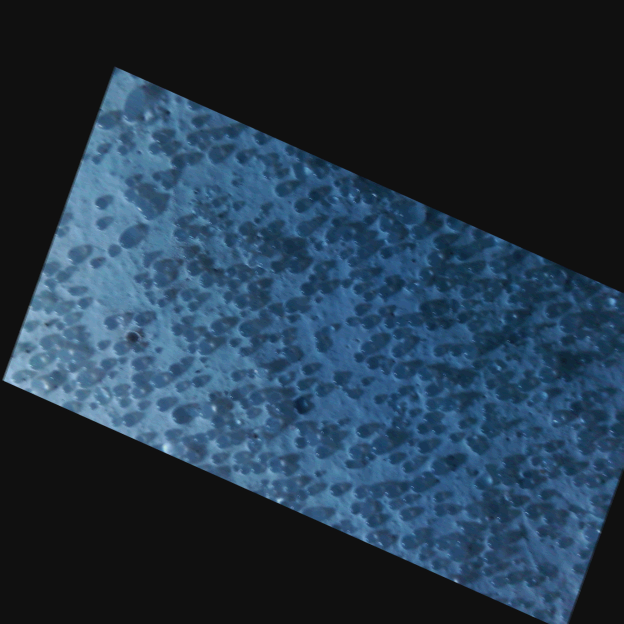GrassBeadSeg: (147, 195, 585, 553), (149, 172, 600, 506), (94, 145, 586, 433), (167, 185, 503, 588), (205, 150, 556, 535), (128, 190, 510, 522), (144, 213, 608, 471), (120, 233, 622, 460), (138, 206, 441, 570), (85, 298, 598, 507), (117, 233, 609, 450), (65, 249, 497, 490), (227, 187, 538, 519), (89, 156, 366, 525), (220, 291, 586, 558), (61, 206, 470, 443), (281, 347, 619, 619), (207, 199, 464, 554), (131, 313, 501, 550), (114, 145, 437, 410), (131, 279, 479, 517), (96, 244, 433, 480), (177, 247, 508, 485), (115, 334, 517, 527), (173, 219, 442, 503), (40, 234, 354, 469), (93, 218, 427, 429), (291, 253, 617, 466), (187, 229, 589, 399), (195, 289, 472, 515), (217, 201, 398, 543), (194, 179, 541, 354), (296, 229, 469, 573), (248, 321, 582, 492), (29, 299, 442, 433), (245, 205, 553, 378), (213, 384, 496, 559), (169, 262, 380, 488), (194, 333, 483, 498), (227, 252, 438, 476), (74, 201, 325, 388), (86, 236, 305, 449), (64, 286, 393, 426), (95, 266, 369, 434), (257, 229, 622, 351), (66, 256, 410, 380), (388, 345, 552, 603), (151, 274, 387, 453), (115, 264, 325, 462), (169, 287, 471, 424), (65, 228, 352, 372), (197, 234, 397, 439), (227, 390, 465, 561), (169, 156, 374, 354), (295, 200, 468, 428), (364, 290, 550, 500), (54, 180, 373, 302), (22, 235, 248, 406), (206, 216, 528, 336), (172, 258, 440, 402), (121, 190, 308, 391), (380, 370, 529, 608), (29, 380, 590, 443), (254, 241, 498, 379), (92, 197, 300, 354), (213, 415, 591, 501), (464, 321, 570, 612), (94, 340, 362, 454), (275, 403, 498, 535), (31, 355, 280, 473), (68, 203, 239, 371), (119, 388, 382, 497), (131, 318, 436, 411), (293, 412, 594, 501), (183, 243, 302, 463), (381, 276, 589, 401), (244, 267, 374, 461), (91, 259, 263, 404), (110, 342, 370, 437), (122, 421, 574, 475), (237, 233, 373, 409), (307, 345, 541, 446), (128, 358, 361, 458), (279, 377, 445, 516), (267, 261, 397, 401), (52, 270, 290, 346), (131, 179, 427, 240), (49, 109, 133, 311), (339, 240, 415, 463), (430, 459, 551, 599), (435, 387, 598, 488), (41, 262, 159, 400), (153, 398, 431, 454), (257, 204, 309, 486), (131, 156, 249, 278), (134, 382, 329, 455), (101, 259, 302, 329), (346, 479, 564, 542), (110, 217, 186, 397), (141, 191, 344, 257), (192, 435, 363, 509), (94, 363, 497, 394), (28, 357, 175, 439), (413, 367, 554, 450), (496, 470, 568, 621), (188, 368, 554, 397), (503, 277, 616, 367), (32, 346, 297, 384), (453, 378, 558, 469), (521, 370, 607, 476), (293, 223, 328, 459), (229, 322, 362, 379), (186, 261, 223, 464), (411, 463, 487, 560), (105, 134, 129, 421), (148, 228, 185, 410), (484, 463, 563, 546), (501, 286, 595, 355), (467, 360, 498, 565), (244, 388, 350, 443), (352, 193, 456, 248), (363, 356, 428, 434), (122, 177, 146, 387), (378, 218, 446, 292), (312, 283, 384, 352), (543, 279, 602, 362), (152, 203, 211, 284), (194, 255, 227, 394), (291, 151, 373, 205), (197, 320, 234, 428), (178, 296, 205, 439), (352, 481, 410, 545), (462, 435, 499, 532), (236, 299, 297, 357), (493, 386, 551, 445), (545, 471, 596, 537), (522, 268, 599, 309), (10, 322, 62, 382), (266, 373, 344, 413), (479, 418, 547, 462), (433, 516, 489, 569), (551, 372, 587, 454), (449, 312, 509, 360), (232, 133, 294, 179), (432, 215, 480, 272), (130, 117, 193, 160), (156, 273, 195, 341), (54, 321, 109, 369), (470, 259, 516, 316), (225, 251, 265, 315), (142, 263, 172, 347), (361, 191, 398, 258), (214, 277, 272, 319), (185, 123, 245, 162), (43, 307, 81, 368), (536, 526, 579, 578), (48, 341, 87, 398), (116, 391, 262, 406), (376, 284, 428, 326), (184, 279, 213, 354), (502, 426, 553, 466), (248, 336, 279, 401), (303, 256, 356, 293), (481, 566, 532, 604), (453, 269, 489, 318), (201, 408, 254, 440), (397, 534, 500, 550), (162, 261, 188, 324), (217, 222, 257, 262), (352, 270, 388, 314), (264, 399, 307, 434), (428, 465, 576, 475), (337, 499, 396, 524), (407, 304, 463, 329), (285, 283, 319, 323), (312, 217, 345, 258), (179, 278, 221, 310), (431, 346, 463, 387), (209, 324, 286, 341), (185, 98, 204, 164), (499, 374, 568, 392), (504, 557, 550, 584), (535, 528, 594, 549), (396, 479, 423, 520), (369, 316, 415, 339), (256, 236, 313, 254), (299, 240, 321, 282), (359, 315, 393, 342), (253, 214, 271, 254), (442, 377, 464, 409), (353, 483, 396, 497), (55, 327, 72, 360), (337, 250, 355, 279), (60, 350, 86, 369), (385, 400, 414, 417), (398, 393, 415, 412), (421, 413, 437, 424), (395, 386, 403, 393)
